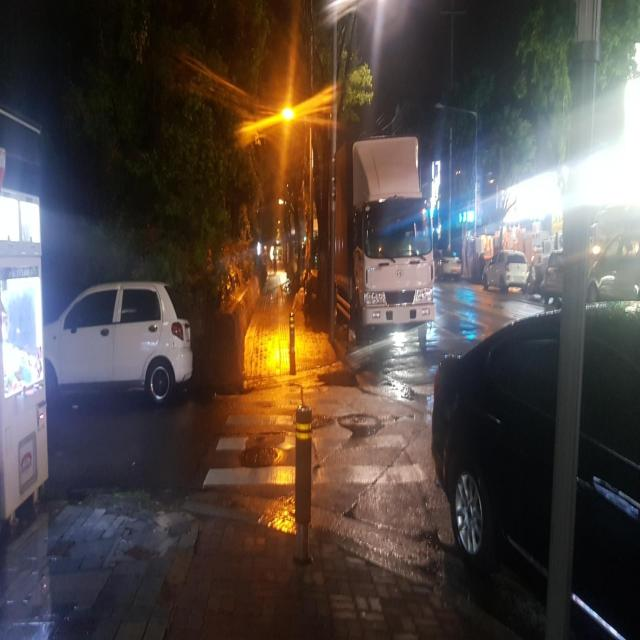횡단보도: (203, 412, 430, 490)
